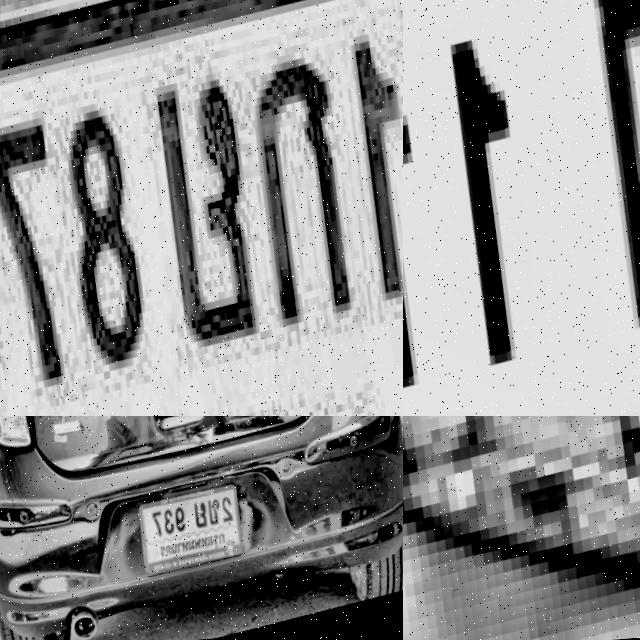license-plate: (0, 0, 403, 416), (403, 0, 640, 416), (403, 416, 640, 640), (135, 476, 254, 587)
